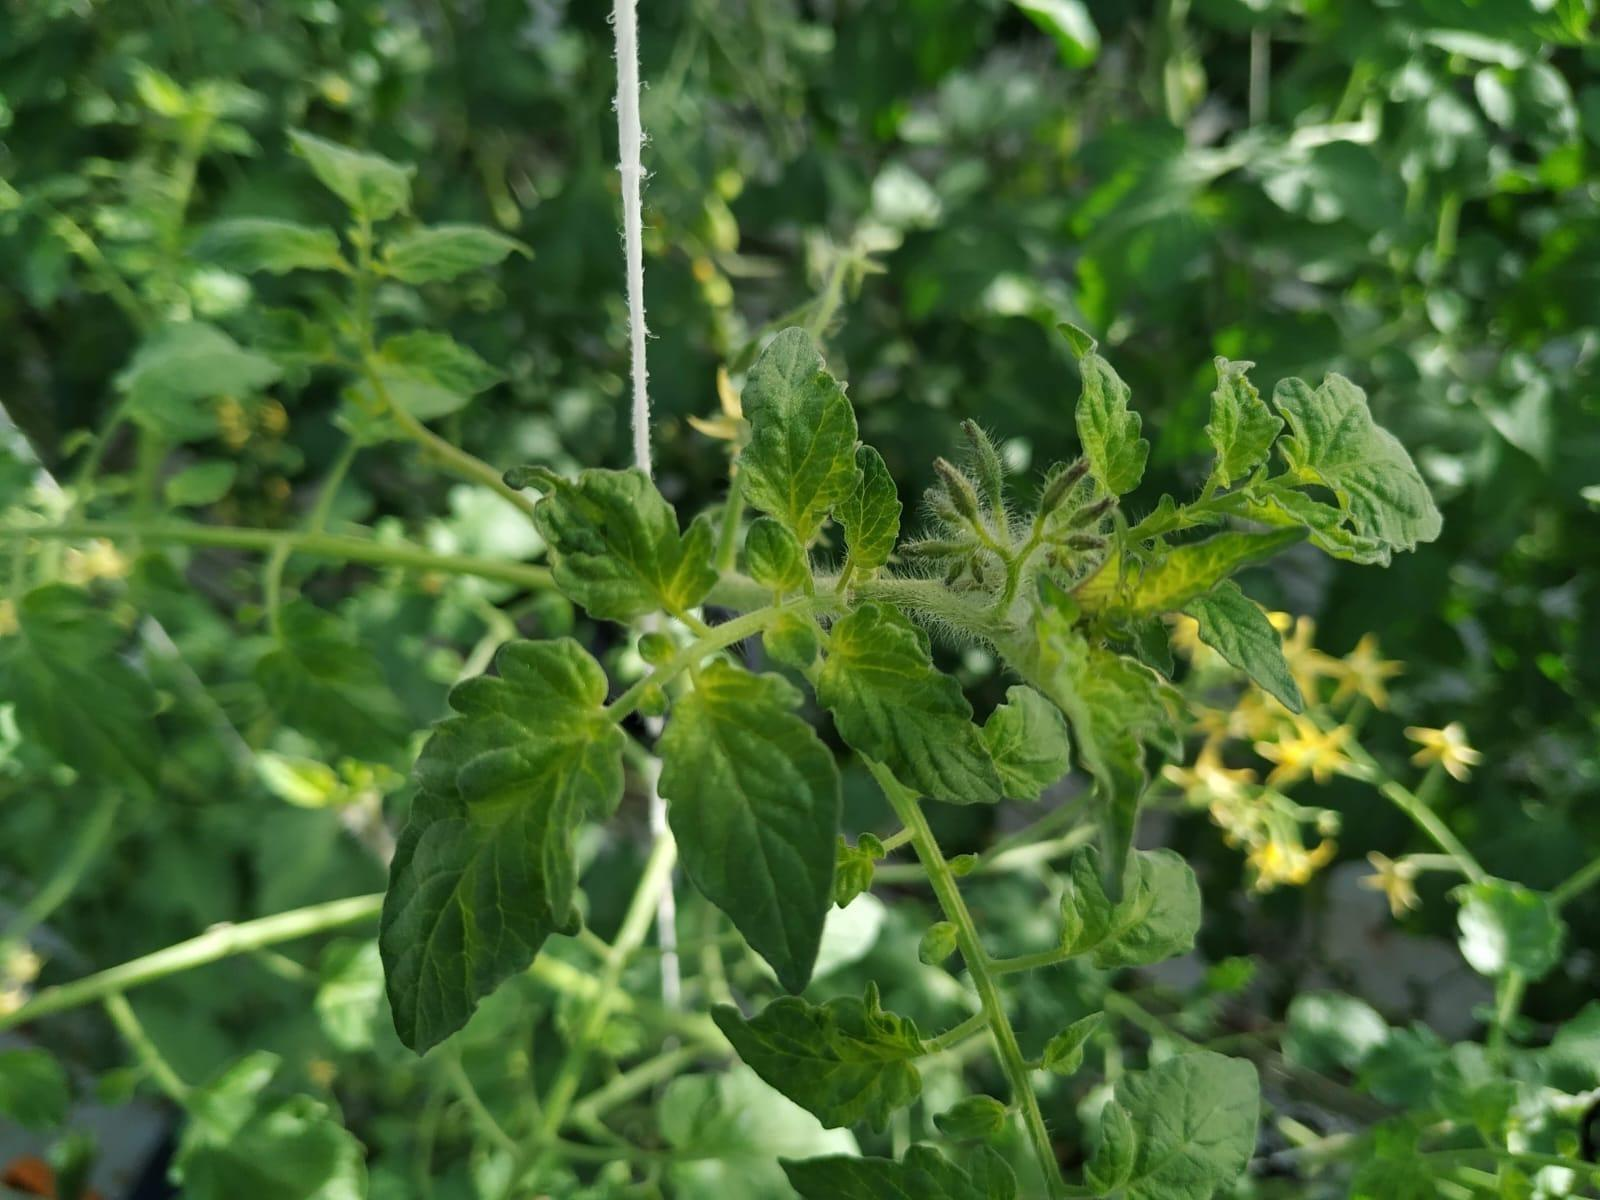Rugose leaf: (377, 638, 624, 1053), (658, 657, 842, 993), (815, 603, 1003, 803), (506, 465, 716, 621), (1272, 372, 1440, 550), (741, 328, 859, 547)
